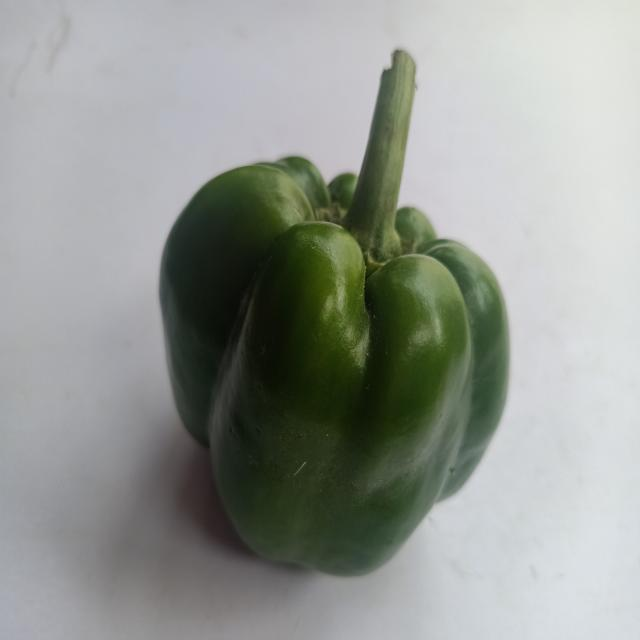Capsicum: (138, 35, 528, 591)
